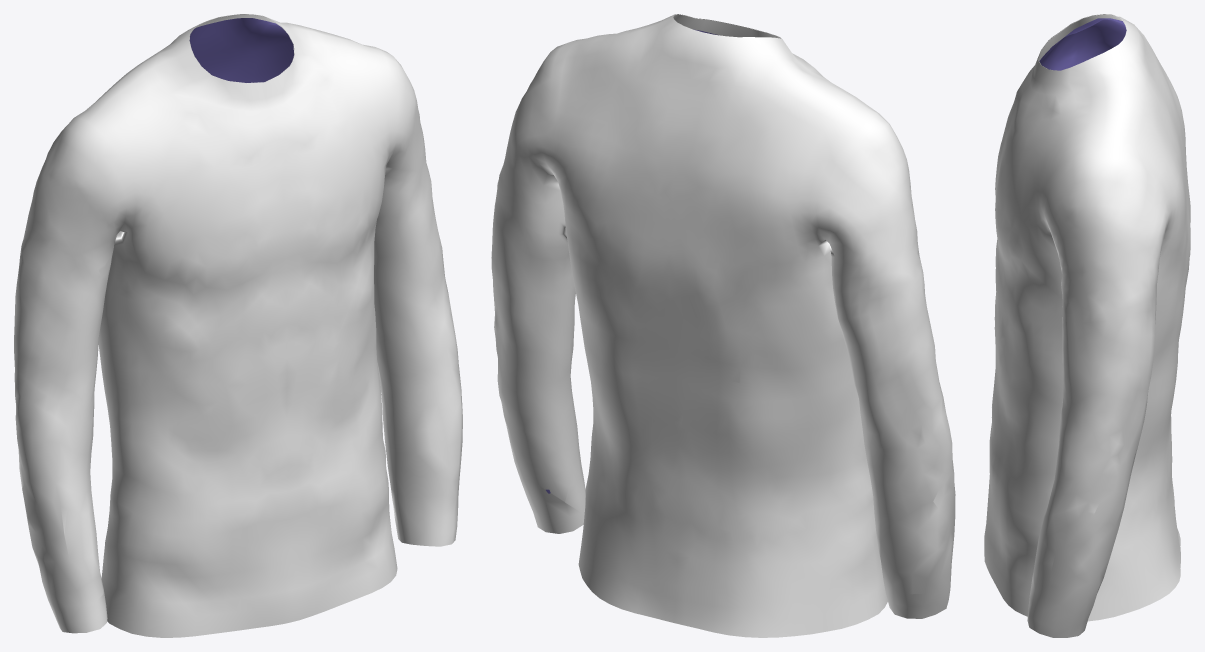
3 views of the same model, side by side, from view 1: azimuth 30°, elevation 25°; view 2: azimuth 150°, elevation 25°; view 3: azimuth 270°, elevation 25° (orthographic). The views are drawn at different scales.
Parts seen in each view (by area): view 1: main, reverse; view 2: main; view 3: main, reverse.
Part boxes in pixels (x1,y1,x2,y2): main: (14, 14, 462, 637); reverse: (189, 18, 294, 82); main: (491, 14, 955, 637); main: (984, 14, 1190, 637); reverse: (1039, 18, 1126, 70).
Bounding box in the file's own units: 0.7761 × 0.9484 × 0.3363.
